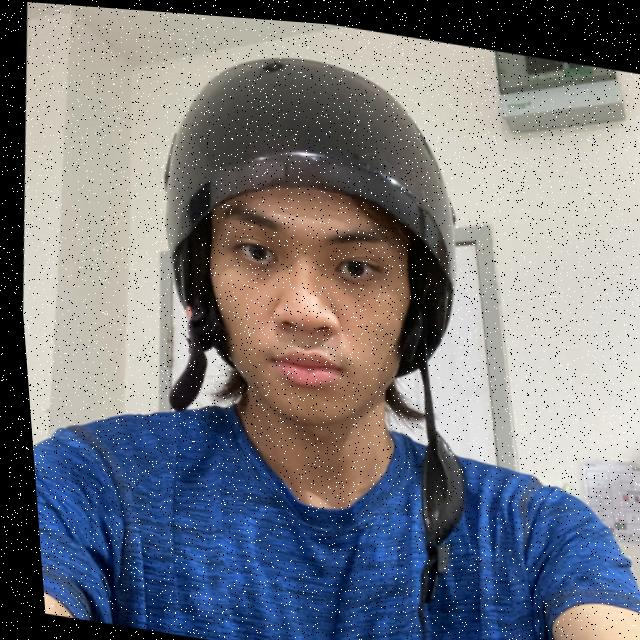illegal_helmet: (103, 16, 506, 620)
